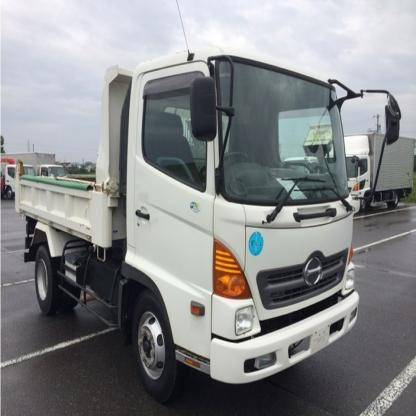dump_truck: (15, 31, 372, 399)
